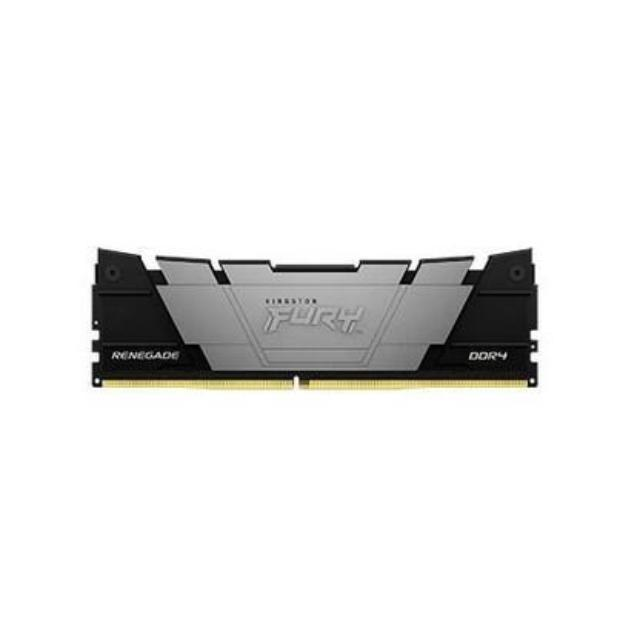RAM: (87, 240, 544, 392)
